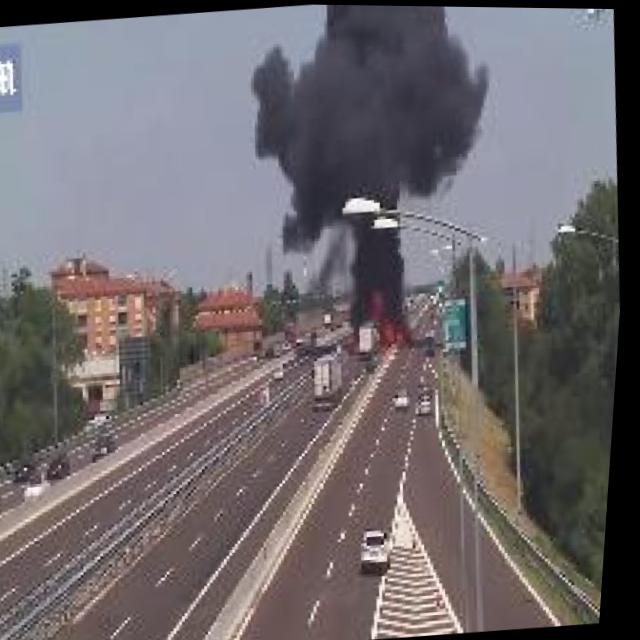fire: (348, 280, 426, 358)
